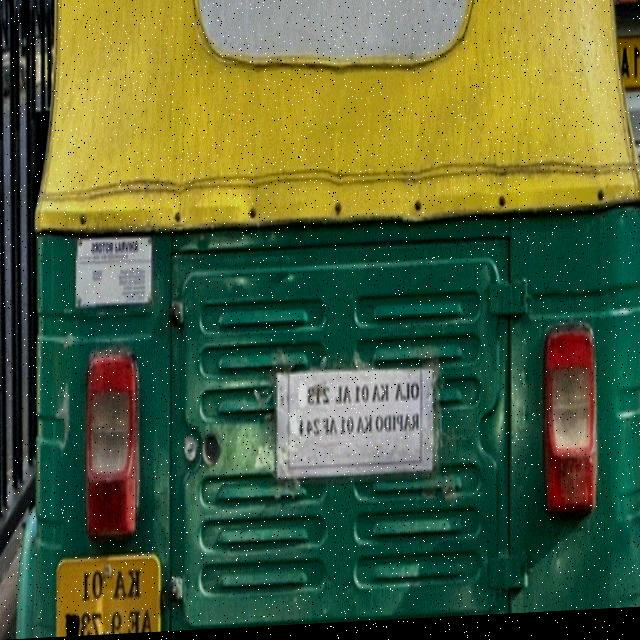plate: (48, 549, 170, 638)
